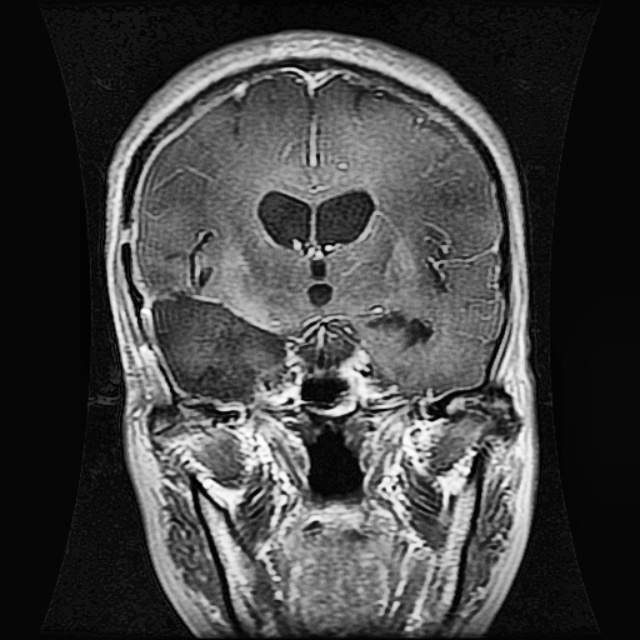Meningioma: (149, 289, 288, 403)
